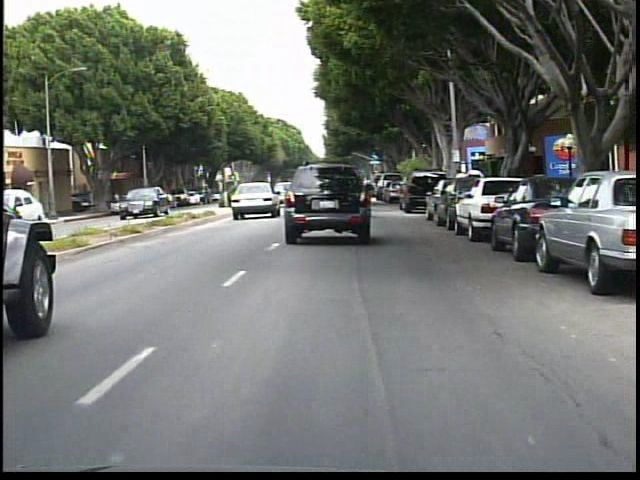person: (466, 166, 484, 205), (451, 167, 467, 202), (111, 188, 127, 212)
